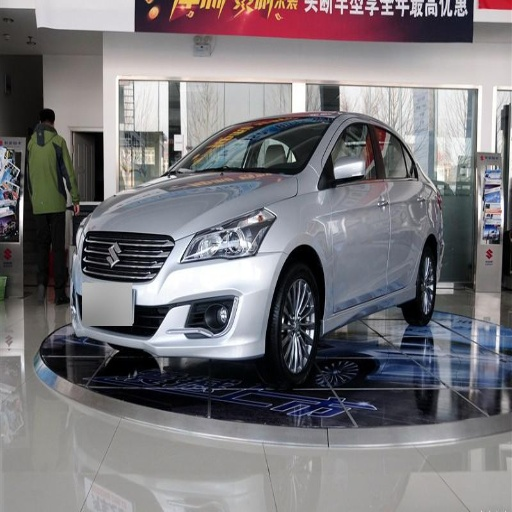front_bumper: (48, 217, 283, 383)
front_glass: (175, 119, 331, 175)
front_left_door: (325, 119, 387, 313)
